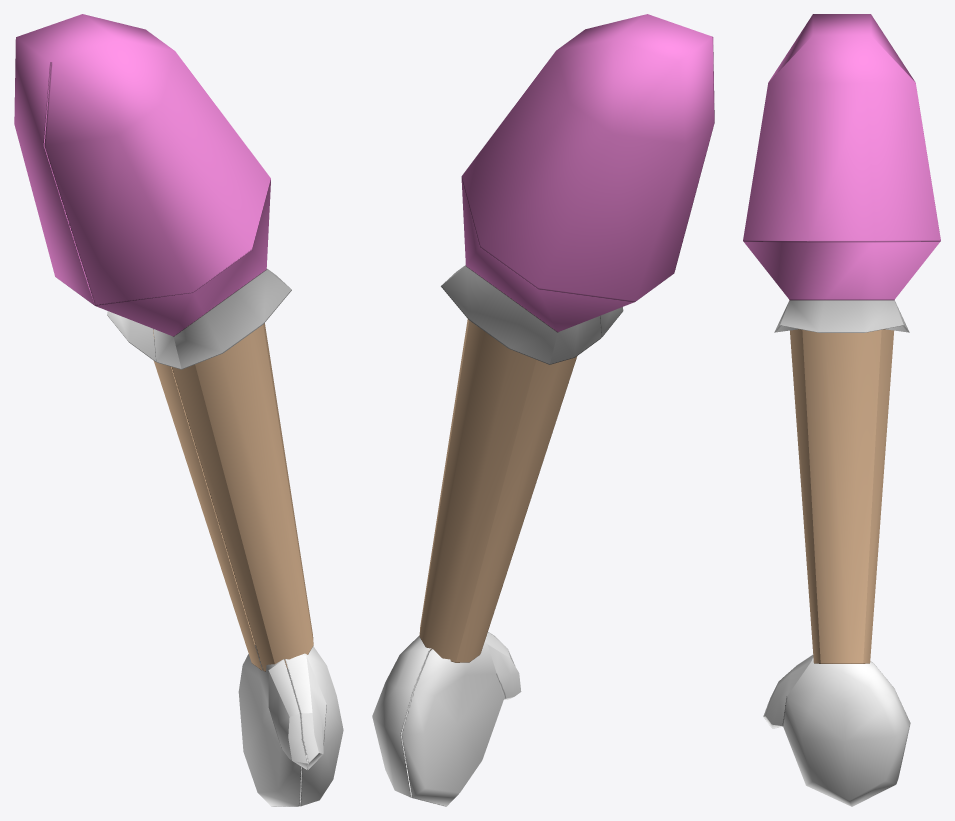
File: L_hands.obj
3 renders of one model, left to right at view 1: azimuth 30°, elevation 25°; view 2: azimuth 150°, elevation 25°; view 3: azimuth 270°, elevation 25°, orthographic. The views are drawn at different scales.
Parts seen in each view (by area): view 1: pasted__pCube7 pasted__group2 L_hands; view 2: pasted__pCube7 pasted__group2 L_hands; view 3: pasted__pCube7 pasted__group2 L_hands.
Part boxes in pixels (x1,y1,x2,y2): pasted__pCube7 pasted__group2 L_hands: (14, 14, 343, 806); pasted__pCube7 pasted__group2 L_hands: (372, 14, 714, 806); pasted__pCube7 pasted__group2 L_hands: (743, 14, 940, 806).
Size of the model in its own units: 0.2976 by 0.7687 by 0.2001.
Materials: 1 (1 with a texture image).
